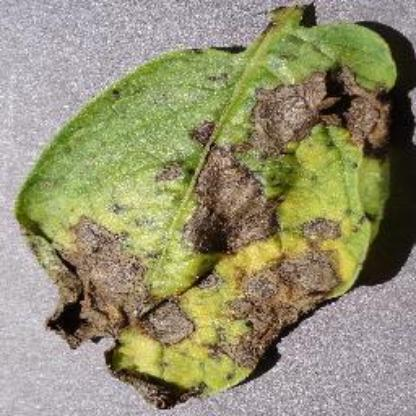Early-Blight: (14, 3, 402, 404)
